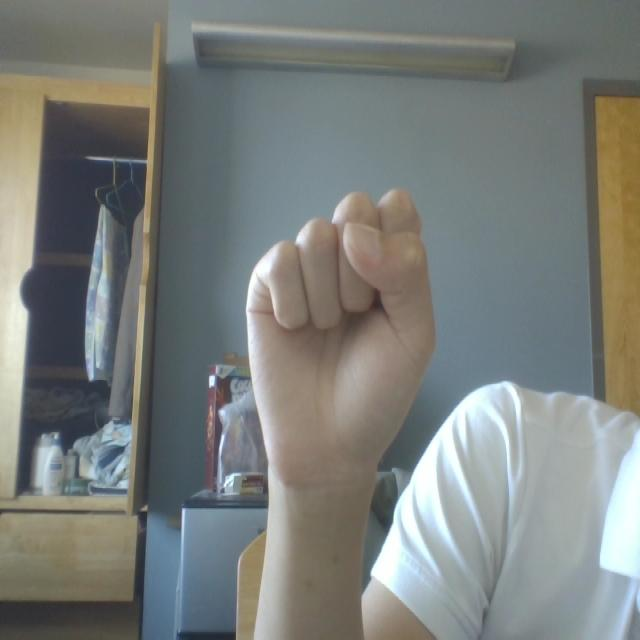S: (198, 131, 453, 533)
